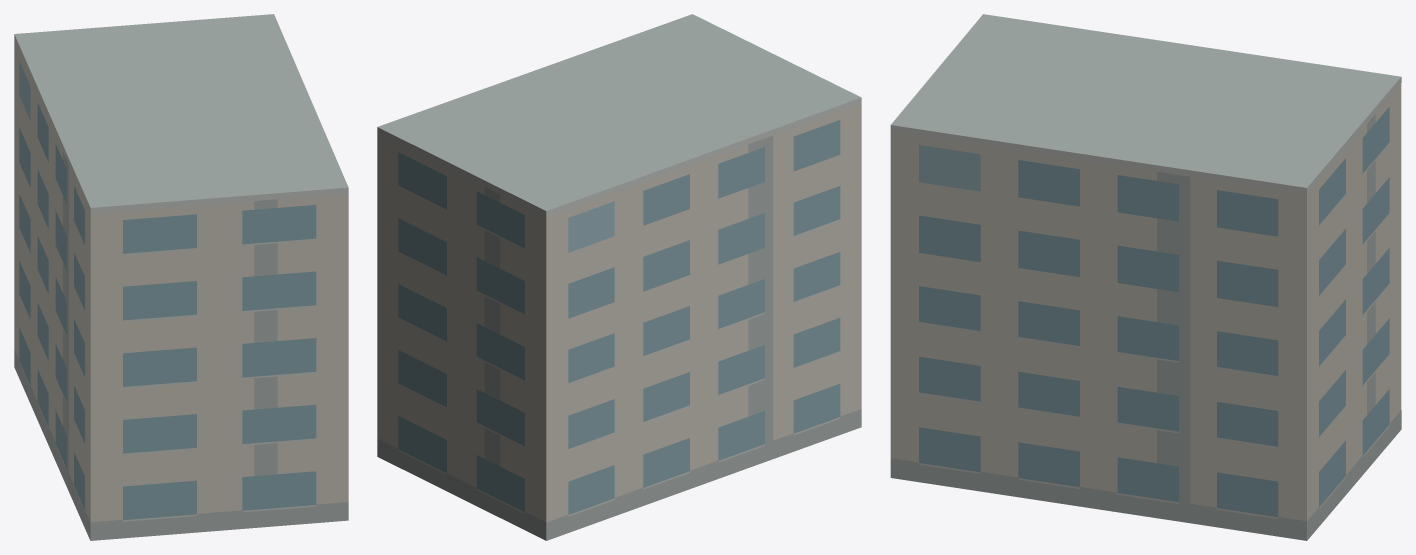
The model's file is survey-upis-32854260.glb.
The picture shows the model from 3 angles, left to right: view 1: azimuth 30°, elevation 25°; view 2: azimuth 150°, elevation 25°; view 3: azimuth 270°, elevation 25°; orthographic projection. The views are drawn at different scales.
Visible parts, largest first — view 1: survey-upis-32854260.tmp; view 2: survey-upis-32854260.tmp; view 3: survey-upis-32854260.tmp.
Boxes of the visible parts, left/top/right/bottom form: survey-upis-32854260.tmp: left=14, top=14, right=348, bottom=540; survey-upis-32854260.tmp: left=377, top=14, right=861, bottom=540; survey-upis-32854260.tmp: left=890, top=14, right=1401, bottom=540.
Size of the model in its own units: 13.96 by 13.2 by 17.32.
